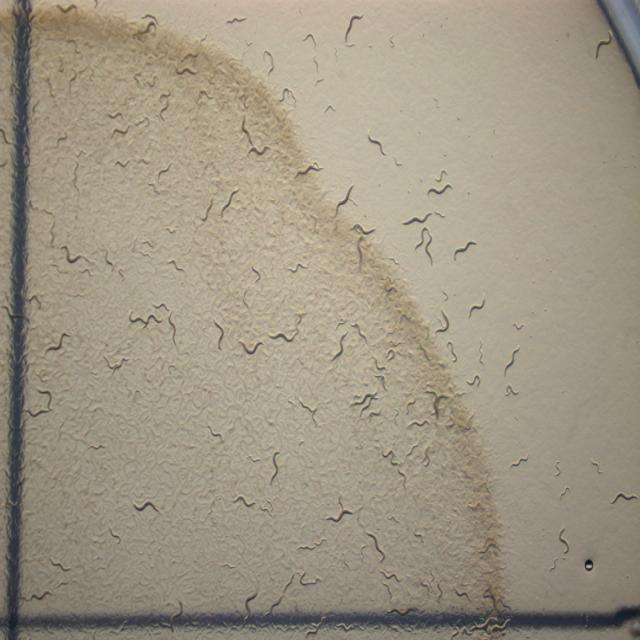filarid: (262, 574, 295, 615), (350, 224, 375, 268), (325, 495, 360, 522), (268, 320, 300, 342), (26, 390, 51, 417), (351, 392, 378, 416), (364, 531, 385, 561), (415, 227, 432, 263), (335, 185, 354, 216), (402, 212, 444, 225), (502, 345, 520, 375), (46, 332, 70, 352), (368, 130, 386, 155), (104, 355, 129, 373), (454, 240, 476, 259), (295, 162, 321, 178), (129, 313, 161, 326), (391, 459, 406, 486), (298, 537, 328, 550), (61, 245, 81, 264), (170, 599, 184, 626), (100, 247, 115, 272), (49, 556, 72, 572), (610, 492, 638, 505), (21, 591, 54, 602), (351, 322, 368, 343), (270, 450, 280, 485), (435, 309, 449, 334), (239, 340, 262, 355), (201, 197, 214, 222), (299, 571, 321, 585), (559, 527, 570, 553), (470, 297, 485, 316), (222, 190, 237, 209), (134, 500, 159, 511), (510, 454, 529, 468), (428, 184, 452, 195), (245, 594, 256, 618), (206, 425, 222, 441), (215, 322, 224, 350), (288, 262, 309, 274), (591, 457, 602, 479), (158, 163, 171, 181), (380, 570, 401, 581), (169, 312, 176, 344), (109, 527, 121, 543), (251, 145, 270, 155), (505, 384, 519, 397), (435, 170, 448, 184), (332, 342, 342, 360), (52, 581, 69, 590), (560, 485, 570, 500), (341, 554, 350, 570), (584, 557, 594, 571), (251, 267, 261, 281), (115, 158, 130, 167), (468, 374, 480, 385), (554, 460, 561, 477), (375, 360, 386, 370), (395, 157, 402, 167), (154, 302, 165, 308), (361, 544, 368, 553), (119, 269, 125, 279), (414, 533, 422, 540), (512, 324, 521, 330), (480, 342, 482, 361), (551, 562, 555, 570), (388, 587, 391, 596)
